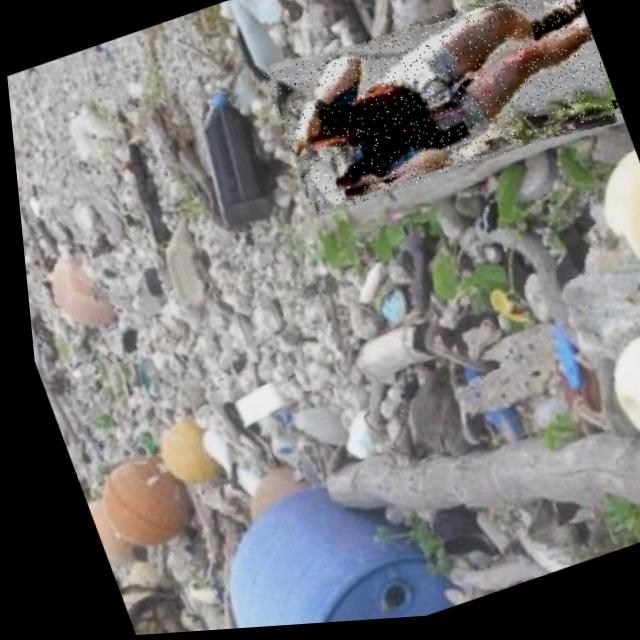Person in Rubble: (254, 0, 624, 223)
